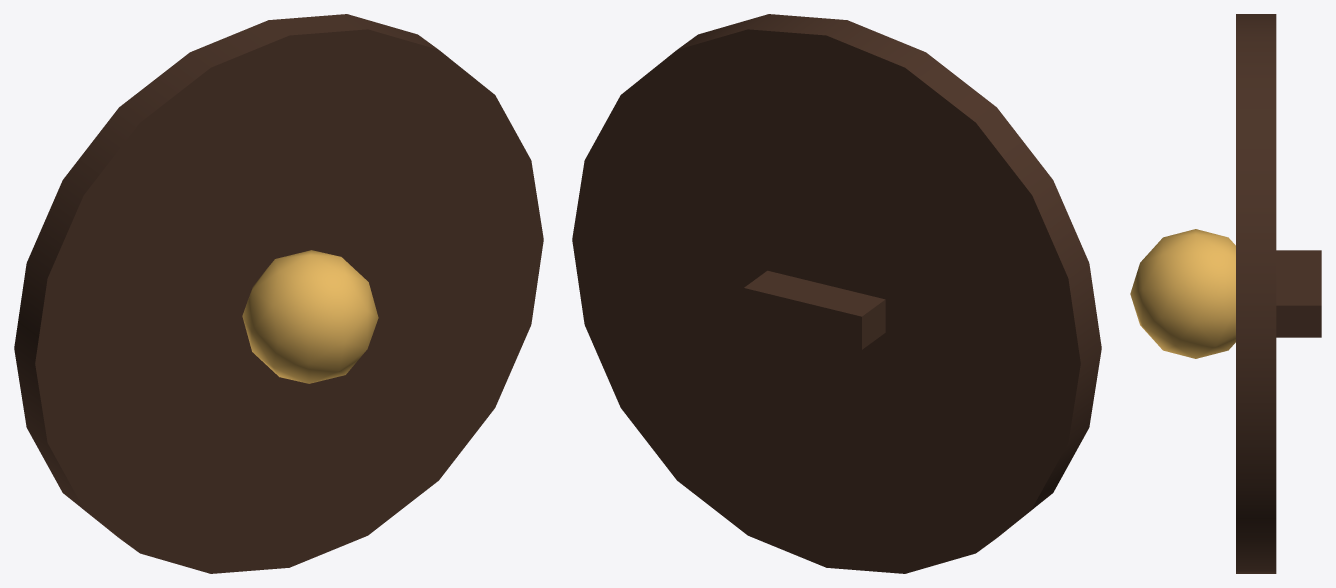
File: ethiopia-gasha.glb
3 views of the same model, side by side, from view 1: azimuth 30°, elevation 25°; view 2: azimuth 150°, elevation 25°; view 3: azimuth 270°, elevation 25° (orthographic). The views are drawn at different scales.
Visible parts, largest first — view 1: RoundShield, Boss; view 2: RoundShield, RearGrip; view 3: RoundShield, Boss, RearGrip.
Boxes of the visible parts, <box> form: RoundShield: <box>14,14,543,573</box>; Boss: <box>242,250,378,383</box>; RoundShield: <box>572,14,1101,573</box>; RearGrip: <box>744,270,885,349</box>; RoundShield: <box>1236,14,1276,573</box>; Boss: <box>1130,229,1235,358</box>; RearGrip: <box>1276,250,1321,337</box>.
Size of the model in its own units: 0.56 by 0.56 by 0.19.
